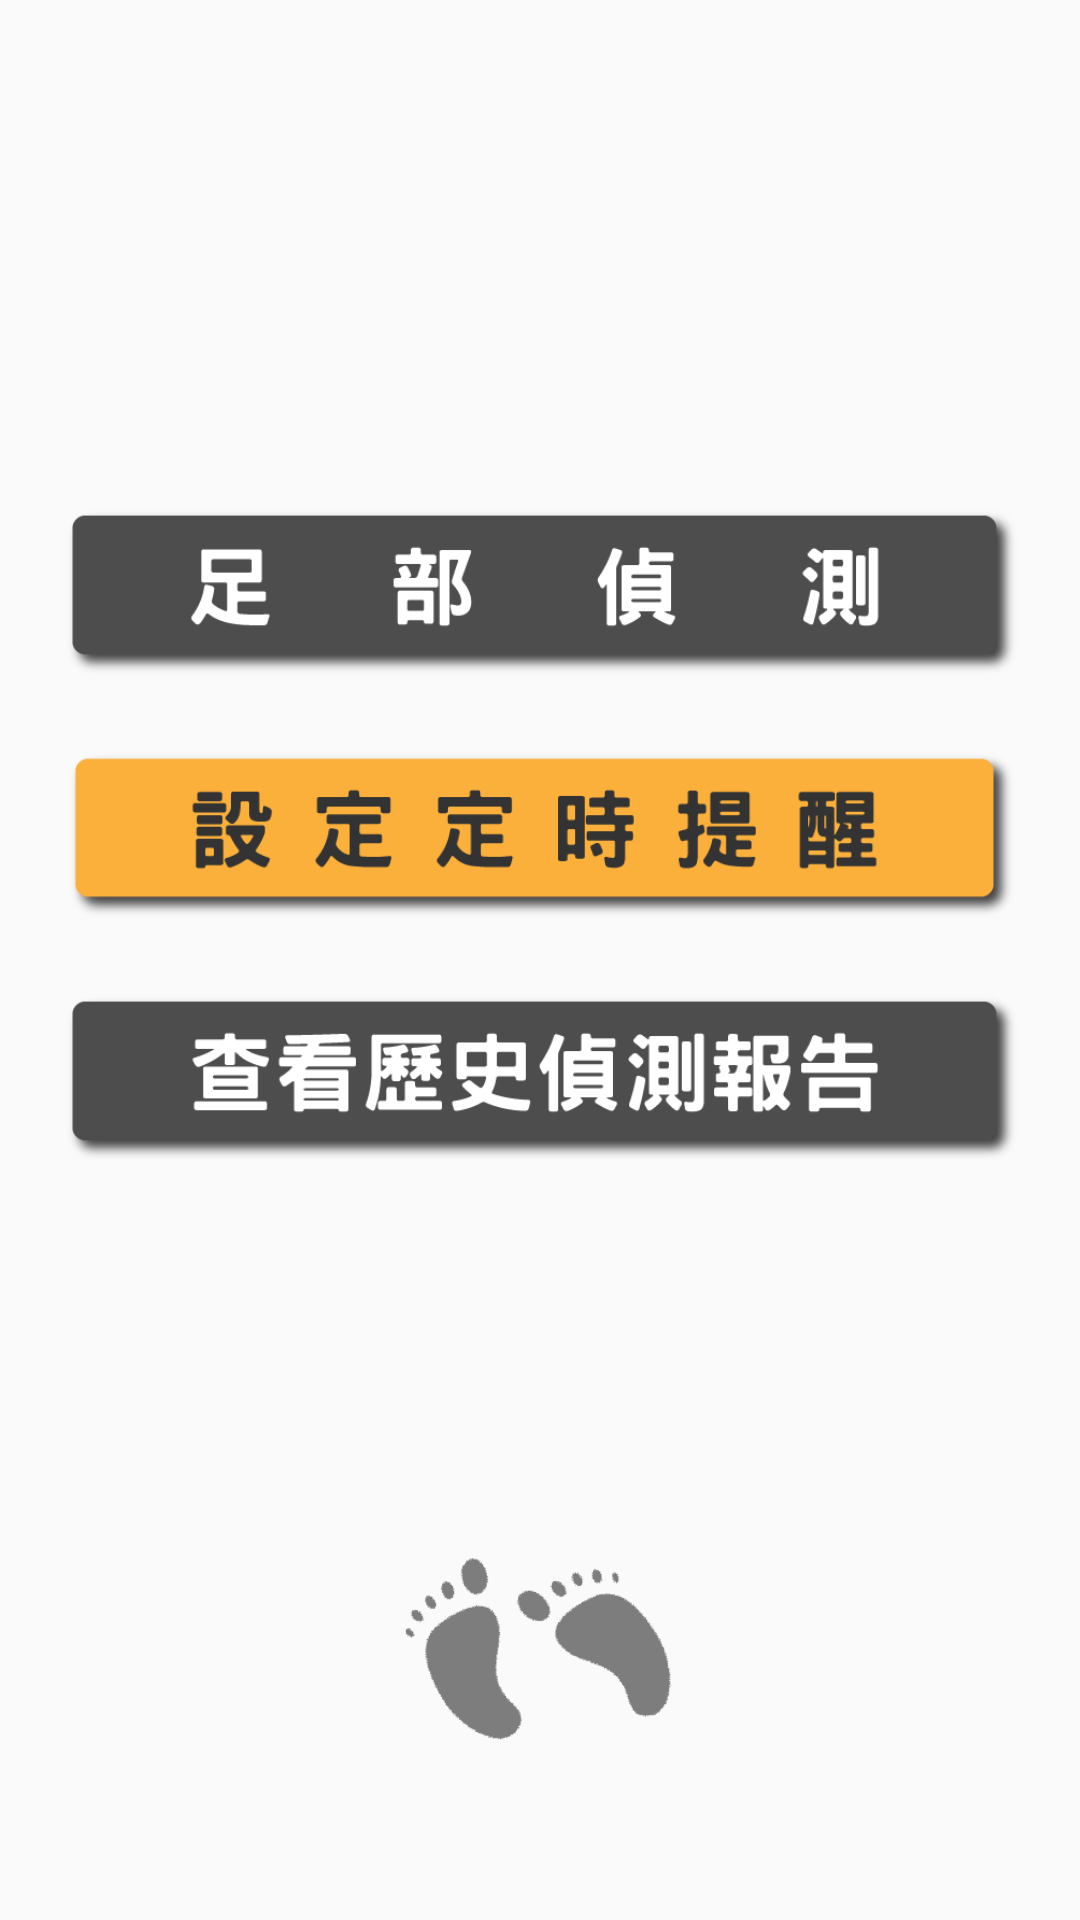

Screen size 1080 x 1920. Icon name, then its center in pixels as [x,y]:
footprint: [538,1649]
